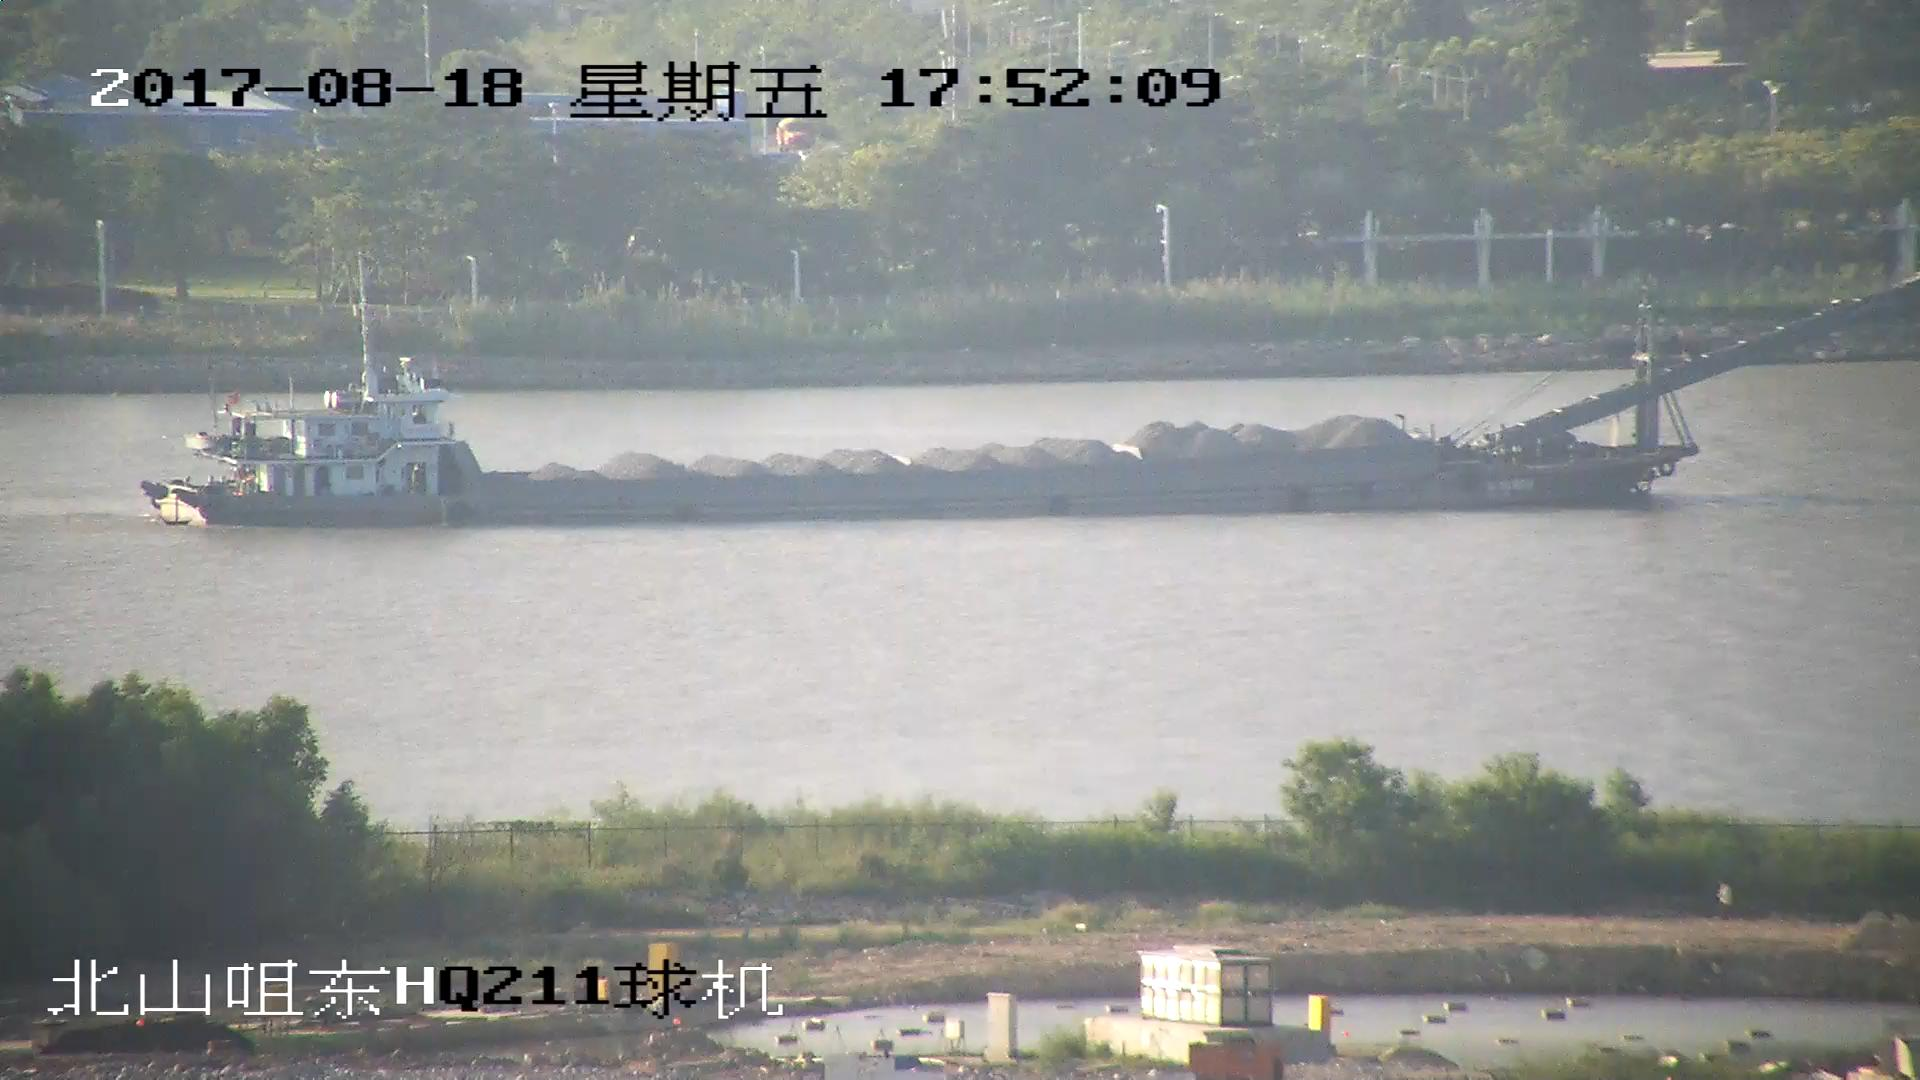ore carrier: (143, 277, 1920, 530)
